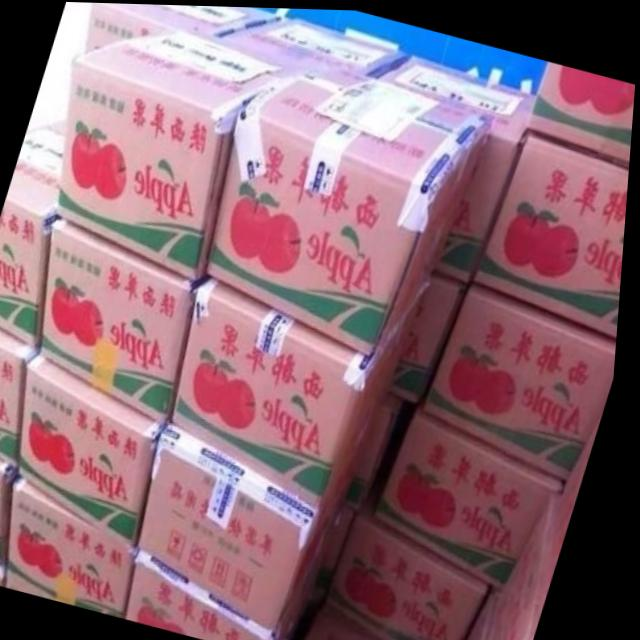box: (210, 61, 496, 355), (58, 26, 308, 282), (177, 272, 437, 507), (144, 419, 378, 629), (428, 278, 621, 476), (376, 52, 538, 280), (380, 395, 572, 586), (45, 215, 217, 421), (476, 125, 632, 336), (333, 462, 498, 640), (25, 352, 177, 544), (135, 513, 347, 640), (16, 476, 148, 615), (0, 126, 66, 346), (208, 15, 407, 74), (498, 486, 568, 640), (528, 59, 636, 158), (395, 267, 474, 400), (84, 2, 287, 52), (0, 323, 46, 469), (0, 454, 27, 568), (313, 607, 385, 640), (472, 583, 509, 640), (0, 561, 15, 584)
